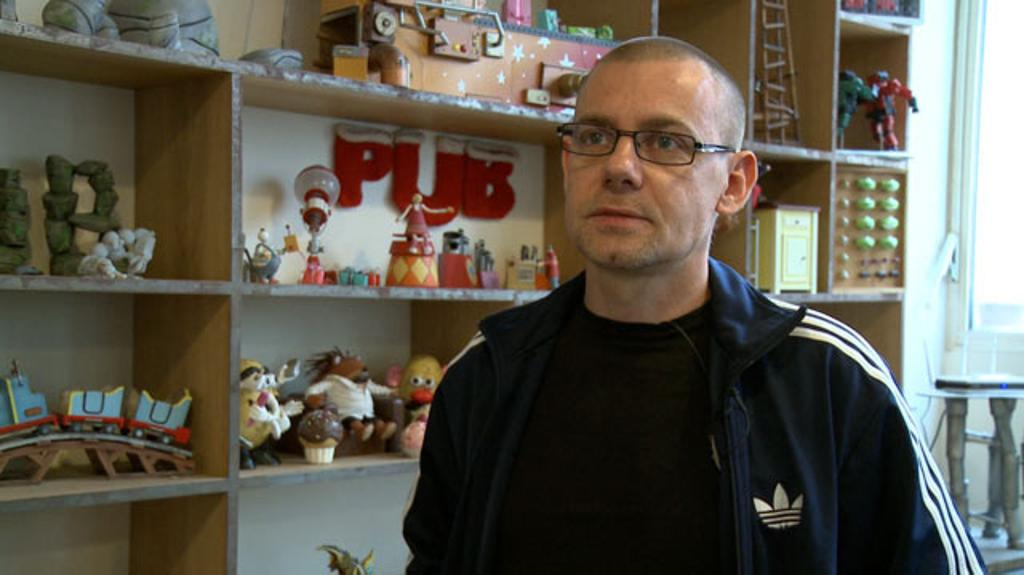face: (568, 58, 728, 268)
